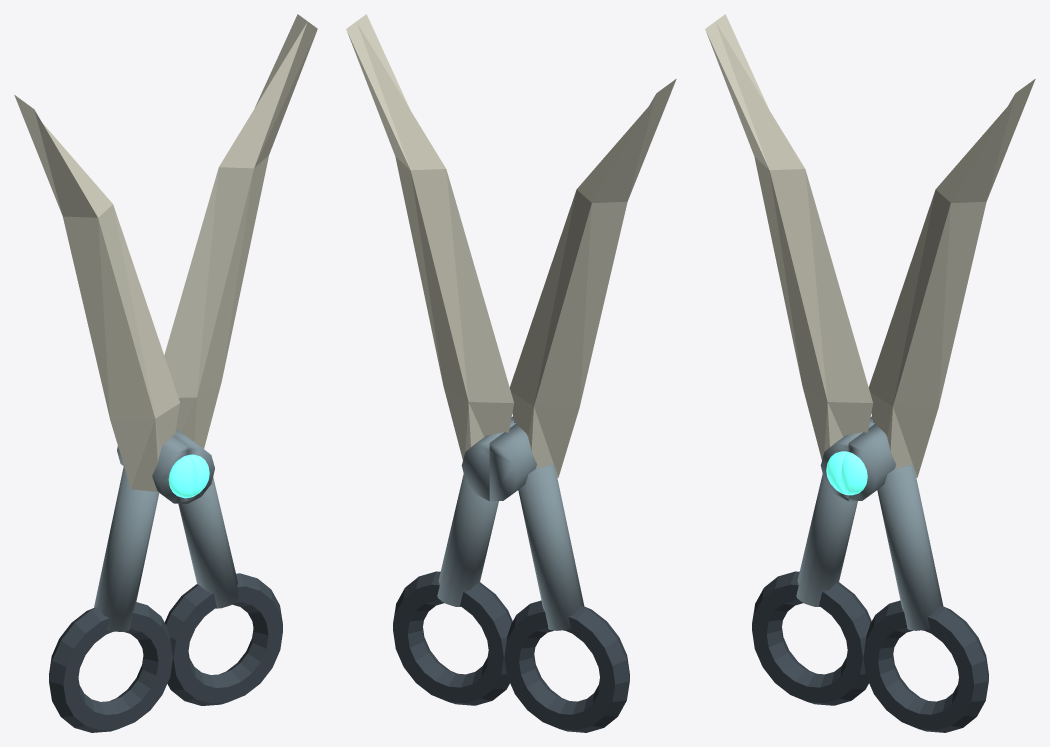
Rendered from YK_04_Mes_Weapon_E00.glb.
3 views of the same model, side by side, from view 1: azimuth 30°, elevation 25°; view 2: azimuth 150°, elevation 25°; view 3: azimuth 330°, elevation 25° (orthographic).
Visible parts, largest first — view 1: SM_YK_04_Mes_Weapon_P00_L, SM_YK_04_Mes_Weapon_P00_R; view 2: SM_YK_04_Mes_Weapon_P00_L, SM_YK_04_Mes_Weapon_P00_R; view 3: SM_YK_04_Mes_Weapon_P00_R, SM_YK_04_Mes_Weapon_P00_L.
Boxes of the visible parts, box(x1,y1,x2,y2) form: SM_YK_04_Mes_Weapon_P00_L: box(14, 95, 194, 732); SM_YK_04_Mes_Weapon_P00_R: box(164, 14, 317, 705); SM_YK_04_Mes_Weapon_P00_L: box(489, 79, 676, 732); SM_YK_04_Mes_Weapon_P00_R: box(346, 14, 517, 705); SM_YK_04_Mes_Weapon_P00_R: box(841, 79, 1035, 732); SM_YK_04_Mes_Weapon_P00_L: box(705, 14, 876, 705).
Size of the model in its own units: 0.59 by 1.25 by 0.175.
